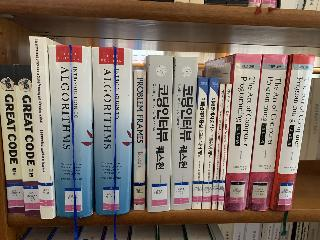book-spine: (48, 44, 93, 219), (267, 52, 315, 213), (244, 52, 288, 213), (219, 51, 262, 213), (92, 47, 132, 215), (144, 55, 174, 213), (29, 36, 54, 219), (169, 56, 198, 210), (14, 64, 40, 217), (0, 63, 25, 214), (201, 77, 220, 209), (192, 77, 209, 210), (216, 84, 233, 211), (133, 70, 147, 211), (212, 84, 226, 210)
